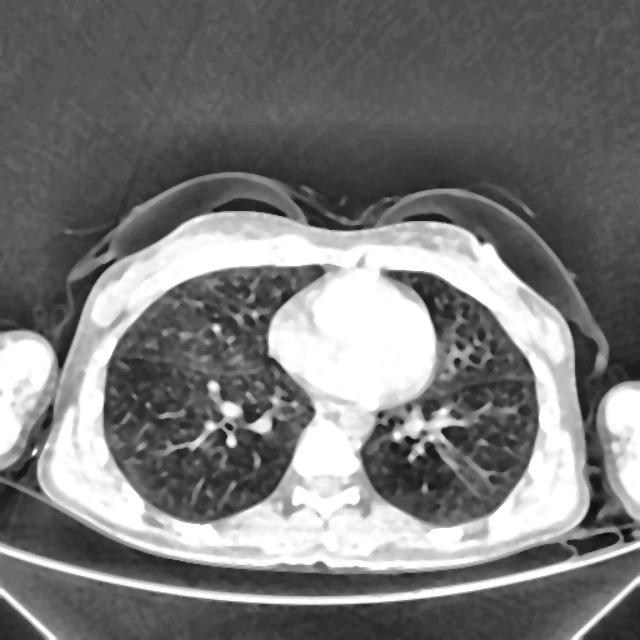covid: (32, 183, 602, 574)
